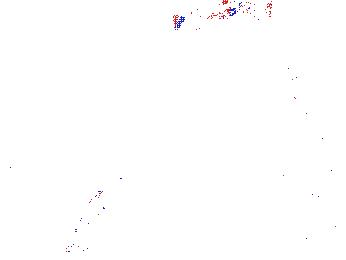glassfish: (66, 157, 134, 253), (199, 133, 272, 198)
red belly glassfish: (237, 1, 271, 22)
redtail glassfish: (168, 5, 239, 33)
